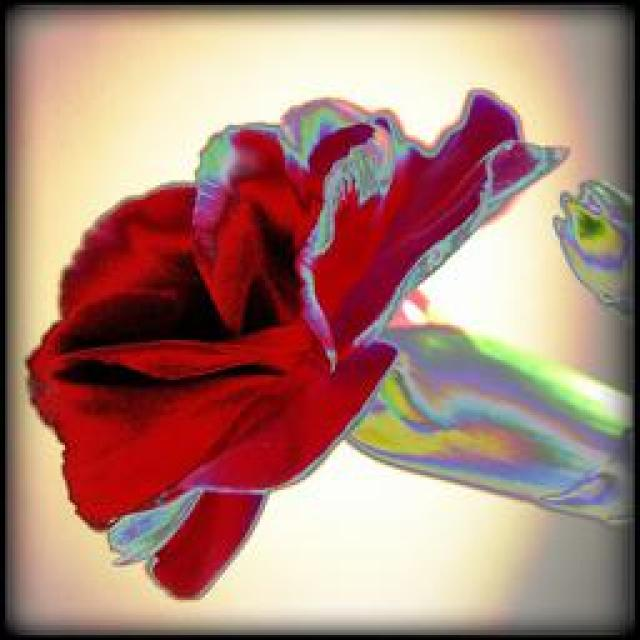carnation: (16, 82, 562, 606)
